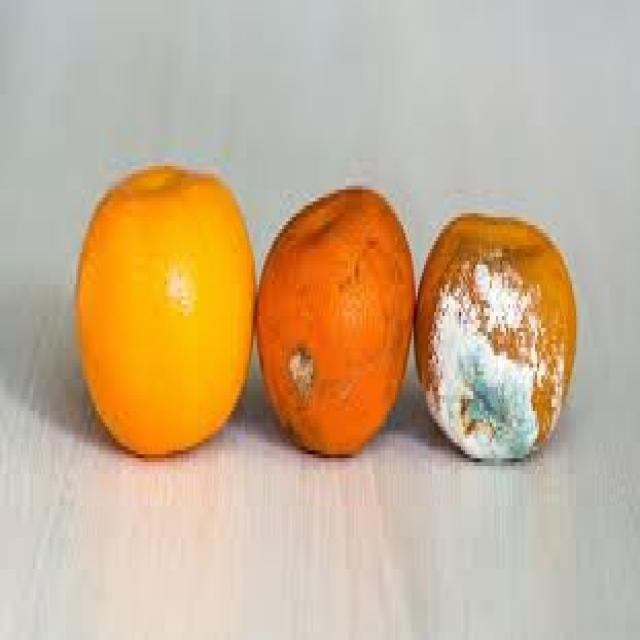food_waste: (76, 166, 572, 454)
